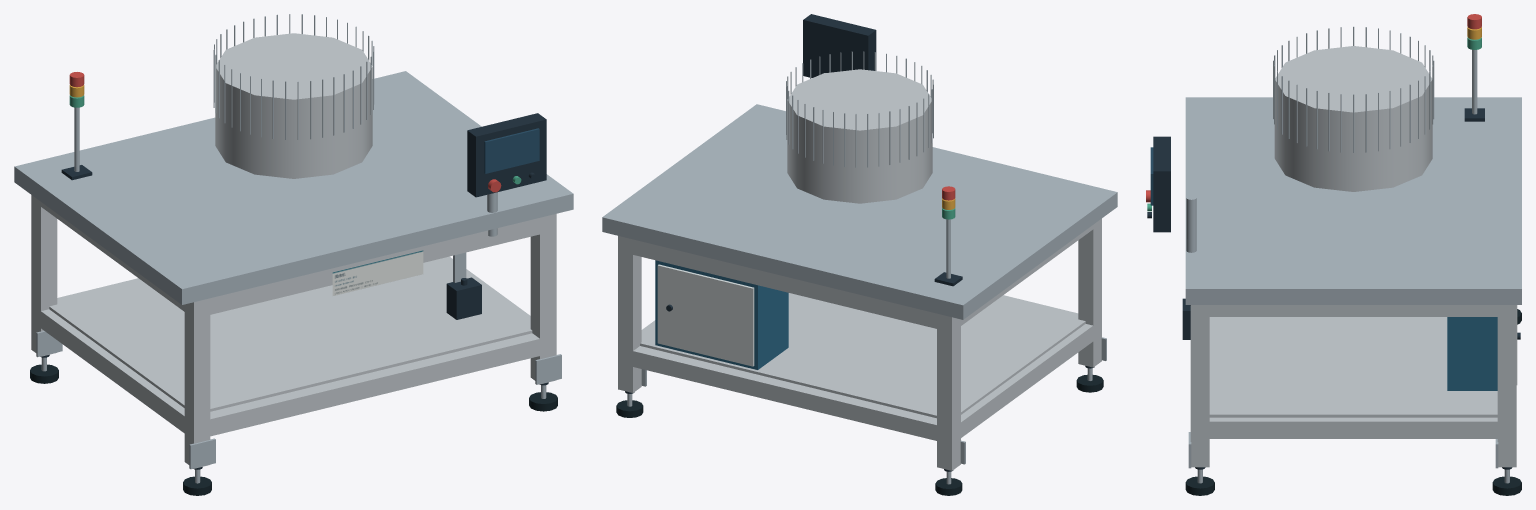
The model's file is circular-knitter-cell.glb.
3 renders of one model, left to right at view 1: azimuth 30°, elevation 25°; view 2: azimuth 150°, elevation 25°; view 3: azimuth 270°, elevation 25°, orthographic. The views are drawn at different scales.
Parts seen in each view (by area): view 1: ClosedMachineBed_28, LowerShelf_29, CylinderTool_48, SlottedExtrusion_22, SlottedExtrusion_23, SlottedExtrusion_8, SlottedExtrusion_24, ConsoleBack_34, SlottedExtrusion_18, SlottedExtrusion_3, OriginalNameplate_42, Screen_35 (+4 smaller); view 2: ClosedMachineBed_28, LowerShelf_29, CylinderTool_48, BackDoor_31, SlottedExtrusion_20, SlottedExtrusion_21, ConsoleBack_34, SlottedExtrusion_3, Cabinet_30, SlottedExtrusion_13, SlottedExtrusion_24, SlottedExtrusion_8 (+1 smaller); view 3: ClosedMachineBed_28, LowerShelf_29, CylinderTool_48, SlottedExtrusion_26, Cabinet_30, SlottedExtrusion_27, SlottedExtrusion_18, SlottedExtrusion_13, ConsoleBack_34, ConsoleBracket_33, RubberFoot_10, RubberFoot_15.
Boxes of the visible parts, box(x1,y1,x2,y2) form: ClosedMachineBed_28: box(14, 71, 573, 304); LowerShelf_29: box(49, 258, 532, 411); CylinderTool_48: box(215, 33, 372, 178); SlottedExtrusion_22: box(210, 333, 548, 436); SlottedExtrusion_23: box(202, 218, 539, 316); SlottedExtrusion_8: box(184, 298, 210, 468); SlottedExtrusion_24: box(36, 309, 189, 434); ConsoleBack_34: box(467, 113, 546, 197); SlottedExtrusion_18: box(530, 214, 556, 384); SlottedExtrusion_3: box(31, 195, 57, 356); OriginalNameplate_42: box(332, 250, 423, 295); Screen_35: box(484, 128, 539, 173); ClosedMachineBed_28: box(602, 104, 1117, 319); LowerShelf_29: box(640, 293, 1085, 418); CylinderTool_48: box(787, 69, 932, 203); BackDoor_31: box(657, 264, 754, 366); SlottedExtrusion_20: box(625, 346, 944, 442); SlottedExtrusion_21: box(626, 238, 944, 330); ConsoleBack_34: box(803, 14, 876, 77); SlottedExtrusion_3: box(937, 313, 960, 470); Cabinet_30: box(655, 260, 788, 369); SlottedExtrusion_13: box(618, 236, 641, 392); SlottedExtrusion_24: box(956, 324, 1093, 440); SlottedExtrusion_8: box(1078, 218, 1101, 367); ClosedMachineBed_28: box(1185, 97, 1521, 304); LowerShelf_29: box(1209, 317, 1497, 417); CylinderTool_48: box(1274, 46, 1432, 191); SlottedExtrusion_26: box(1200, 417, 1506, 438); Cabinet_30: box(1447, 317, 1497, 390); SlottedExtrusion_27: box(1200, 305, 1507, 316); SlottedExtrusion_18: box(1190, 305, 1209, 467); SlottedExtrusion_13: box(1497, 305, 1516, 467); ConsoleBack_34: box(1153, 136, 1170, 232); ConsoleBracket_33: box(1186, 195, 1196, 252); RubberFoot_10: box(1492, 476, 1521, 495); RubberFoot_15: box(1185, 476, 1214, 495).
Bounding box in the file's own units: 1.55 × 1.3 × 1.29.
11 materials, 1 textured.
